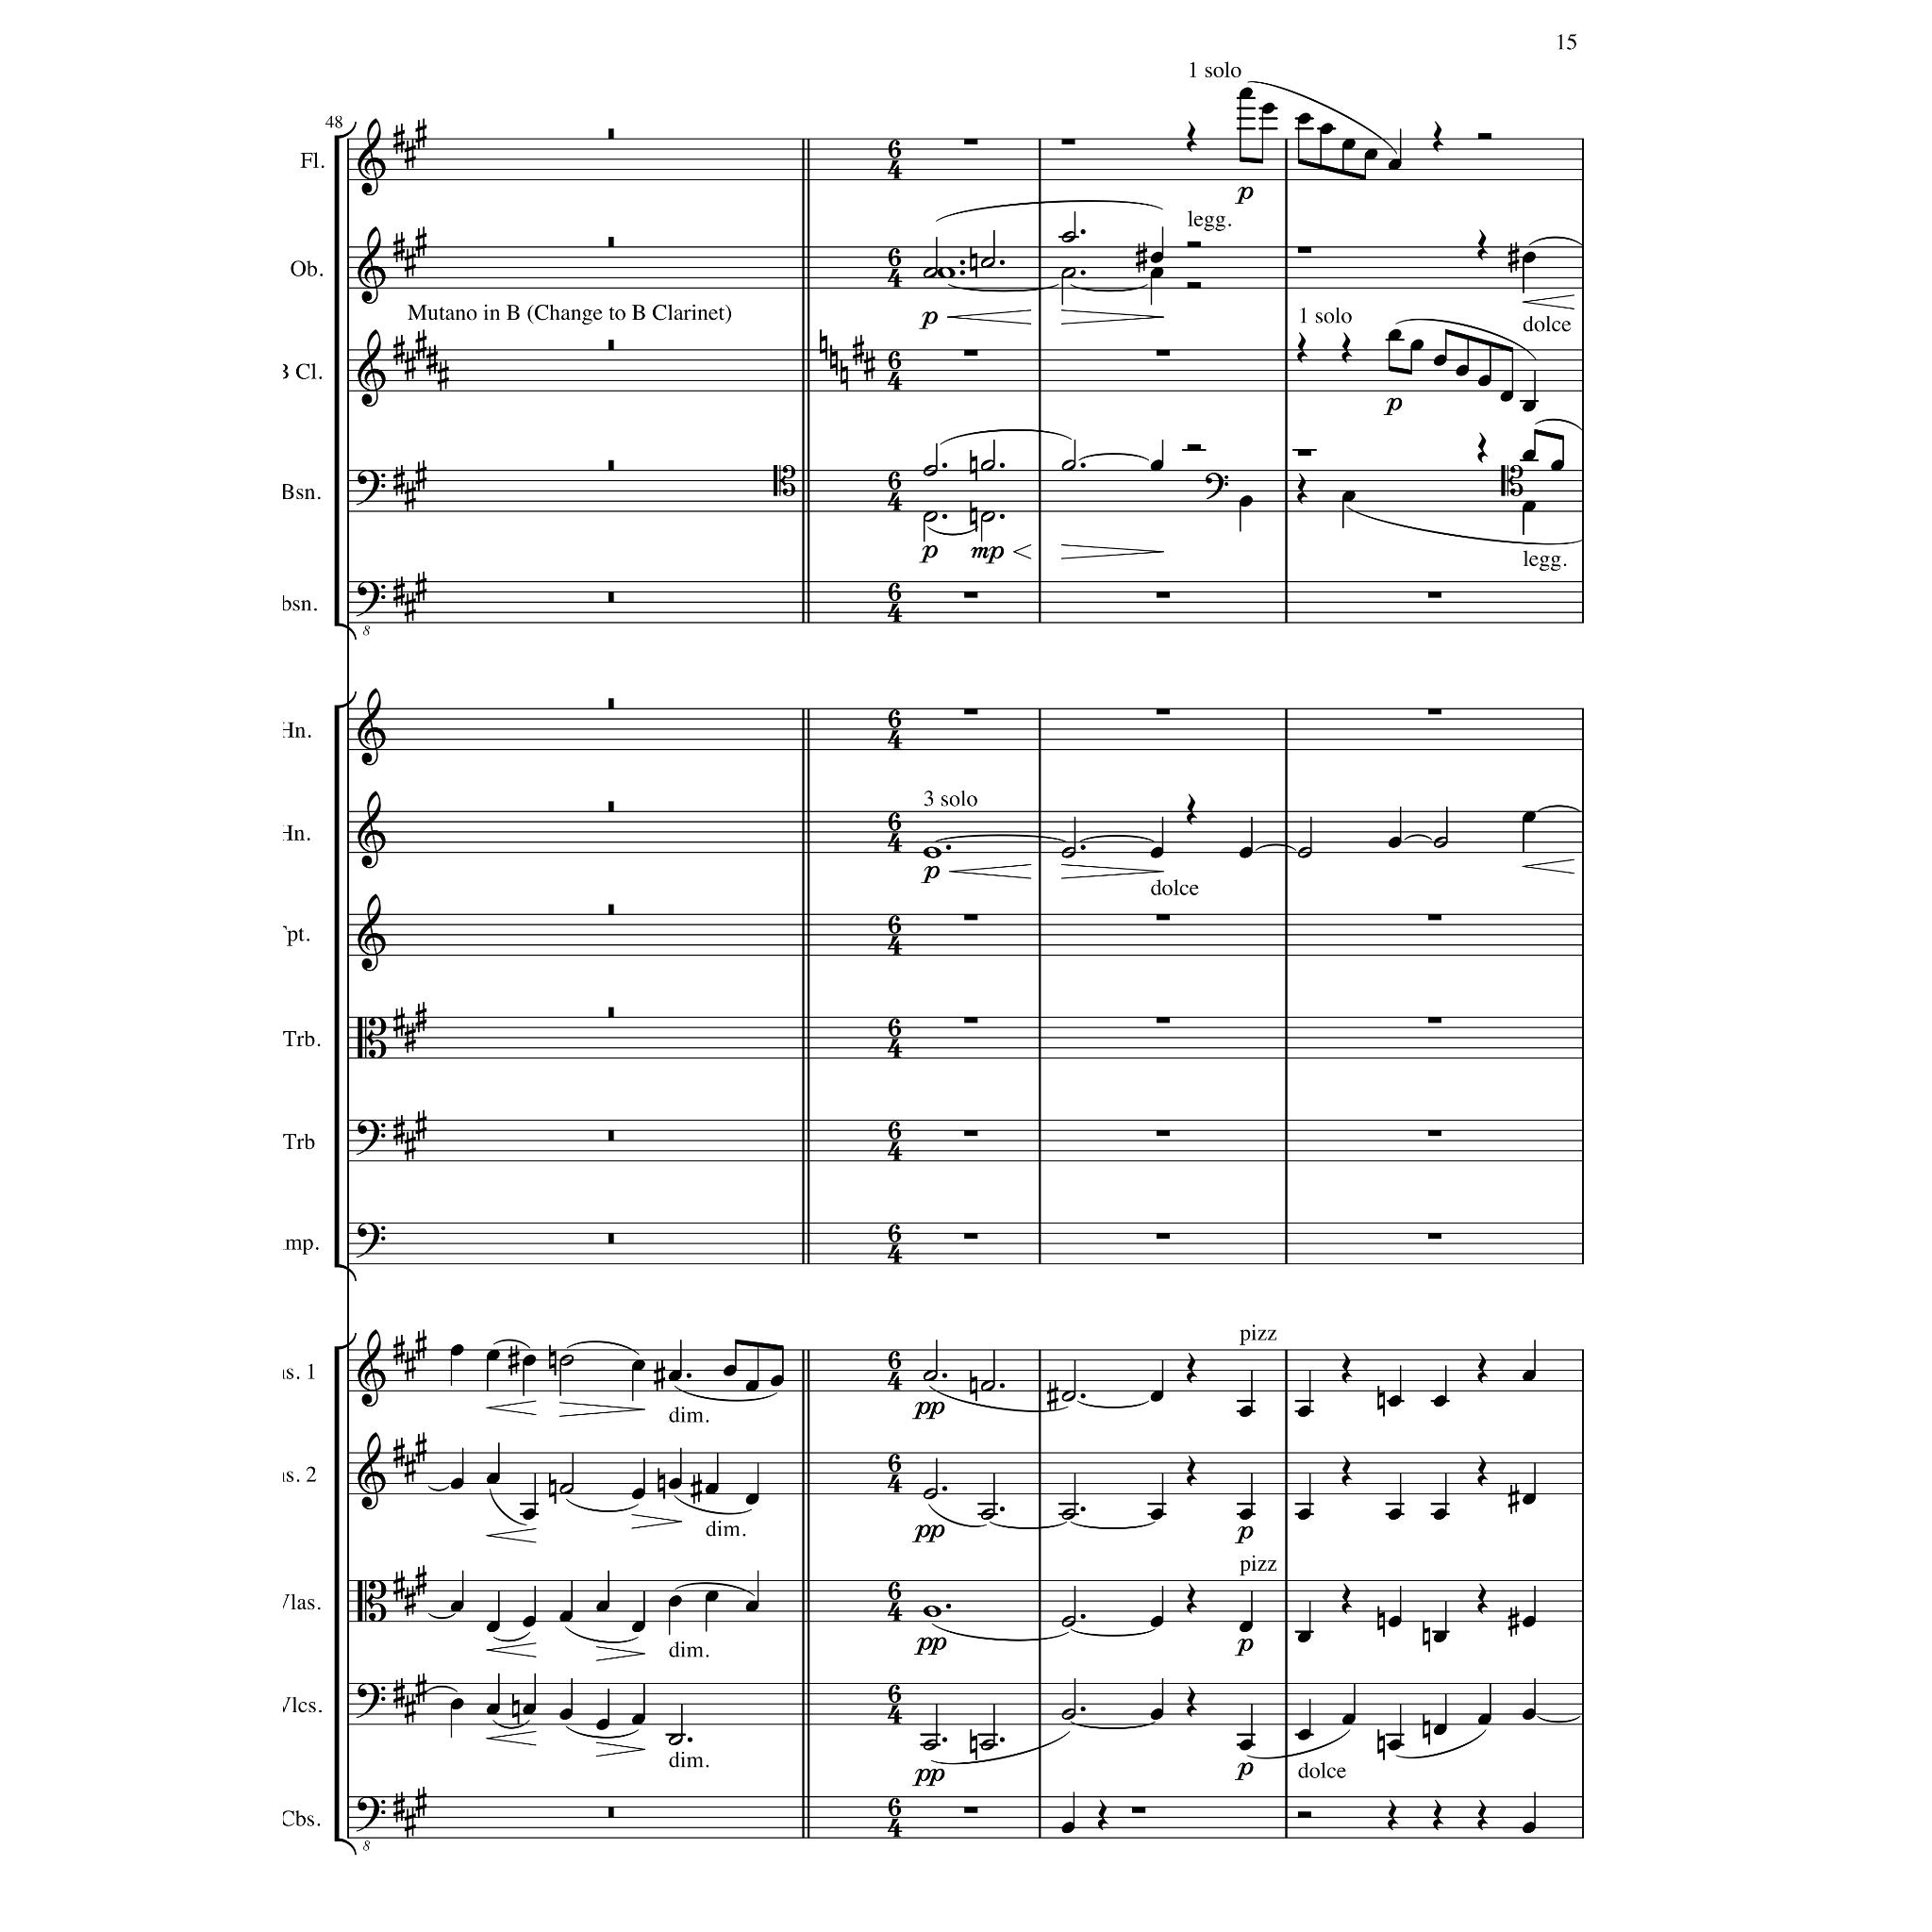fClef: (355, 1796, 385, 1832), (355, 1683, 385, 1719), (355, 581, 385, 617), (355, 470, 385, 506), (355, 1223, 385, 1258), (355, 1120, 385, 1156)
gClef: (358, 328, 386, 408), (358, 791, 386, 870), (358, 1328, 386, 1407), (358, 226, 386, 304), (358, 119, 386, 196), (358, 689, 386, 766), (358, 894, 386, 972), (358, 1432, 386, 1509)
noteheadBlack: (1319, 123, 1334, 136), (1387, 1615, 1402, 1628), (1387, 1507, 1402, 1521), (1387, 1394, 1402, 1407), (1387, 836, 1402, 849), (1387, 328, 1402, 341), (1387, 158, 1402, 172), (1260, 102, 1275, 115), (1238, 1621, 1253, 1634), (1238, 1507, 1253, 1521), (1238, 87, 1253, 100), (1296, 1728, 1311, 1741), (1296, 1630, 1311, 1643), (1296, 1507, 1311, 1521), (1455, 364, 1470, 377), (1432, 1630, 1447, 1643), (1432, 1507, 1447, 1521), (1432, 1394, 1447, 1407), (1521, 400, 1536, 413), (1521, 1821, 1536, 1834), (1521, 1707, 1536, 1721), (1521, 1615, 1536, 1628), (1521, 1492, 1536, 1506), (1521, 500, 1536, 513), (1521, 449, 1536, 462), (1521, 251, 1536, 264), (558, 1707, 574, 1721), (449, 1698, 464, 1711), (449, 1600, 464, 1613), (449, 1477, 464, 1491), (449, 1343, 464, 1357), (485, 1621, 500, 1634), (485, 1349, 500, 1362), (1060, 1821, 1075, 1834), (1149, 266, 1164, 279), (1149, 251, 1164, 264), (1149, 1707, 1164, 1721), (1149, 1615, 1164, 1628), (1149, 1507, 1164, 1521), (1341, 1713, 1355, 1726), (1341, 138, 1355, 151), (1477, 1713, 1491, 1726), (596, 1600, 609, 1613), (632, 1713, 645, 1726), (632, 1621, 645, 1634), (523, 1615, 536, 1628), (523, 1507, 536, 1521), (745, 1600, 758, 1613), (745, 1492, 758, 1506), (745, 1379, 758, 1392), (723, 1364, 736, 1377), (668, 1594, 681, 1607), (668, 1477, 681, 1491), (1387, 1740, 1402, 1751), (1238, 1740, 1253, 1751), (1238, 1406, 1253, 1417), (1238, 847, 1253, 858), (1238, 496, 1253, 508), (1296, 1406, 1311, 1417), (1296, 113, 1311, 125), (1549, 460, 1564, 472), (1409, 340, 1424, 351), (1432, 355, 1447, 366), (1432, 1724, 1447, 1736), (1521, 1370, 1536, 1381), (1521, 811, 1536, 823), (558, 1611, 574, 1623), (704, 1591, 719, 1602), (704, 1483, 719, 1494), (485, 1704, 500, 1715), (485, 1474, 500, 1485), (1149, 847, 1164, 858), (1149, 460, 1164, 472), (1149, 1391, 1164, 1402), (1364, 149, 1377, 160), (1341, 491, 1355, 502), (1477, 375, 1491, 387), (1500, 391, 1513, 402), (596, 1719, 609, 1730), (668, 1370, 681, 1381), (632, 1489, 645, 1500), (632, 1360, 645, 1372), (523, 1704, 536, 1715), (523, 1355, 536, 1366), (770, 1375, 783, 1387)
noteheadHalf: (1433, 836, 1448, 849), (923, 464, 938, 477), (923, 266, 938, 279), (668, 1734, 683, 1747), (1060, 230, 1075, 243), (1060, 266, 1075, 279), (1060, 1707, 1075, 1721), (1060, 1615, 1075, 1628), (1060, 1507, 1075, 1521), (980, 1507, 995, 1521), (980, 1379, 995, 1392), (980, 257, 995, 270), (1297, 847, 1312, 858), (558, 1483, 574, 1494), (558, 1355, 574, 1366), (923, 511, 938, 523), (1060, 1391, 1075, 1402), (1060, 847, 1075, 858), (1060, 460, 1075, 472), (923, 1740, 938, 1751), (923, 1489, 938, 1500), (923, 1370, 938, 1381), (980, 1740, 995, 1751), (980, 511, 995, 523), (980, 460, 995, 472)
noteheadWhole: (923, 847, 941, 858), (937, 268, 956, 279), (923, 1606, 941, 1617)
restHalf: (1181, 444, 1206, 452), (1296, 1811, 1311, 1819), (1187, 241, 1200, 247), (1187, 283, 1200, 289), (1477, 134, 1491, 140)
restQuarter: (1341, 332, 1352, 364), (1387, 1799, 1398, 1831), (1341, 1583, 1352, 1615), (1341, 1455, 1352, 1487), (1341, 1352, 1352, 1384), (1186, 121, 1197, 153), (1296, 332, 1307, 364), (1186, 1455, 1197, 1487), (1186, 793, 1197, 825), (1186, 1352, 1197, 1384), (1186, 1583, 1197, 1615), (1476, 1799, 1488, 1831), (1476, 1583, 1488, 1615), (1476, 1455, 1488, 1487), (1476, 1352, 1488, 1384), (1476, 432, 1488, 464), (1476, 229, 1488, 261), (1432, 121, 1443, 153), (1432, 1799, 1443, 1831), (1097, 1799, 1108, 1831), (1296, 474, 1307, 504), (1186, 1687, 1197, 1717)
restWhole: (1291, 449, 1317, 457), (1155, 1017, 1170, 1024), (1155, 1130, 1170, 1138), (1155, 349, 1170, 357), (1426, 1130, 1441, 1138), (1426, 1017, 1441, 1024), (964, 349, 977, 357), (964, 1017, 977, 1024), (964, 1130, 977, 1138), (1296, 247, 1311, 253), (1155, 1234, 1170, 1240), (1155, 592, 1170, 598), (1155, 709, 1170, 715), (1155, 915, 1170, 921), (1426, 1234, 1441, 1240), (1426, 915, 1441, 921), (1426, 709, 1441, 715), (1426, 592, 1441, 598), (1060, 140, 1075, 145), (964, 140, 977, 145), (964, 592, 977, 598), (964, 709, 977, 715), (964, 915, 977, 921), (964, 1234, 977, 1240), (964, 1807, 977, 1813), (1132, 1807, 1145, 1813), (608, 1807, 613, 1818), (608, 1130, 613, 1141), (608, 1007, 613, 1018), (608, 904, 613, 915), (608, 801, 613, 812), (608, 698, 613, 709), (608, 591, 613, 603), (608, 460, 613, 472), (608, 340, 613, 351), (608, 237, 613, 248), (608, 128, 613, 140), (608, 1234, 613, 1243)
